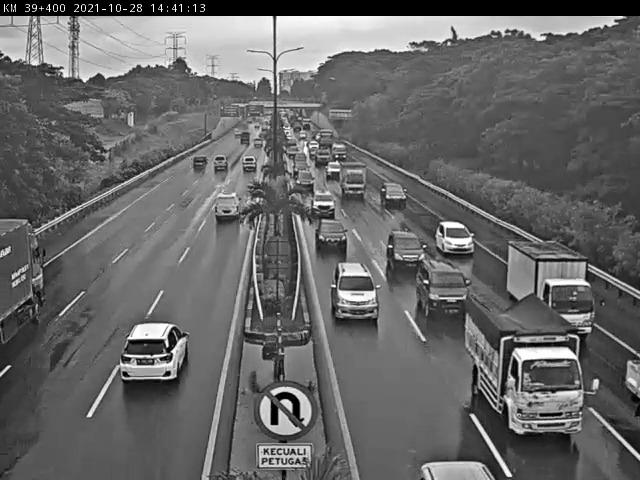car: (85, 321, 204, 393), (393, 404, 495, 480), (416, 259, 470, 313), (327, 266, 375, 319), (210, 191, 247, 229), (437, 224, 475, 254), (390, 230, 421, 264), (314, 214, 344, 244), (313, 188, 337, 216), (378, 178, 401, 206), (294, 167, 314, 188), (240, 159, 259, 175), (324, 161, 342, 177), (210, 156, 225, 175), (191, 156, 205, 173), (292, 158, 309, 170)
